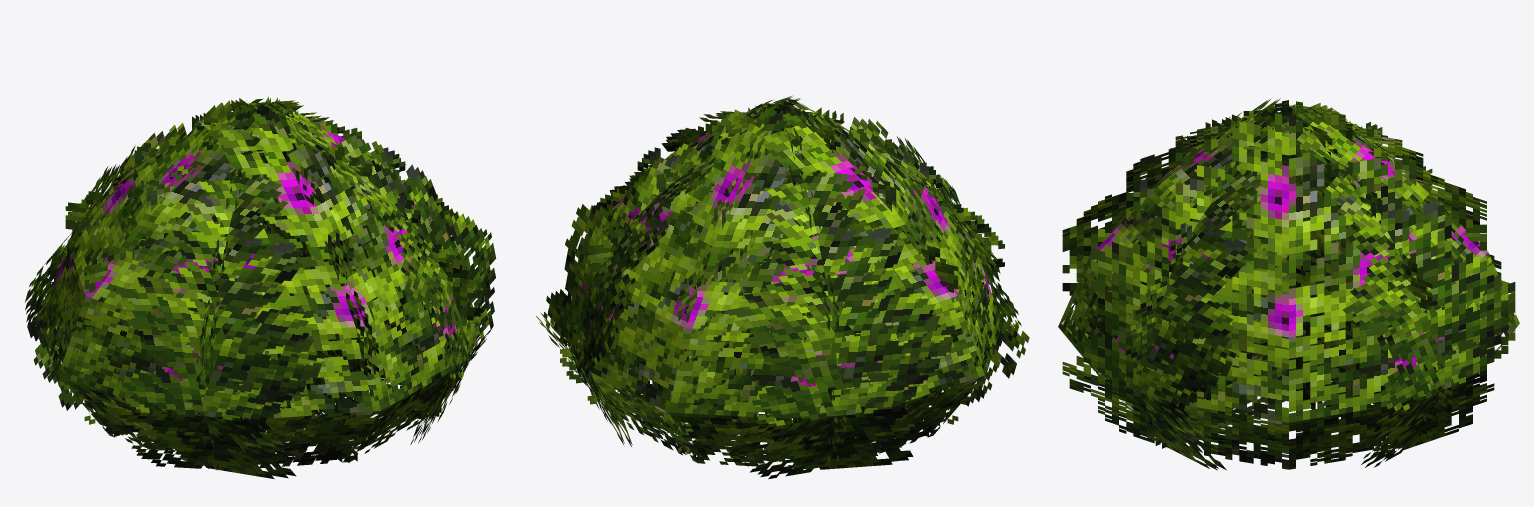
The model's file is bush02_spring3.glb.
The picture shows the model from 3 angles, left to right: view 1: azimuth 30°, elevation 25°; view 2: azimuth 150°, elevation 25°; view 3: azimuth 270°, elevation 25°; orthographic projection.
Parts seen in each view (by area): view 1: bush02; view 2: bush02; view 3: bush02.
Boxes of the visible parts, x1=… form: bush02: x1=25, y1=97, x2=496, y2=479; bush02: x1=536, y1=95, x2=1029, y2=479; bush02: x1=1058, y1=98, x2=1519, y2=470.
Size of the model in its own units: 1.53 by 1.05 by 1.53.
1 material, 1 textured.
